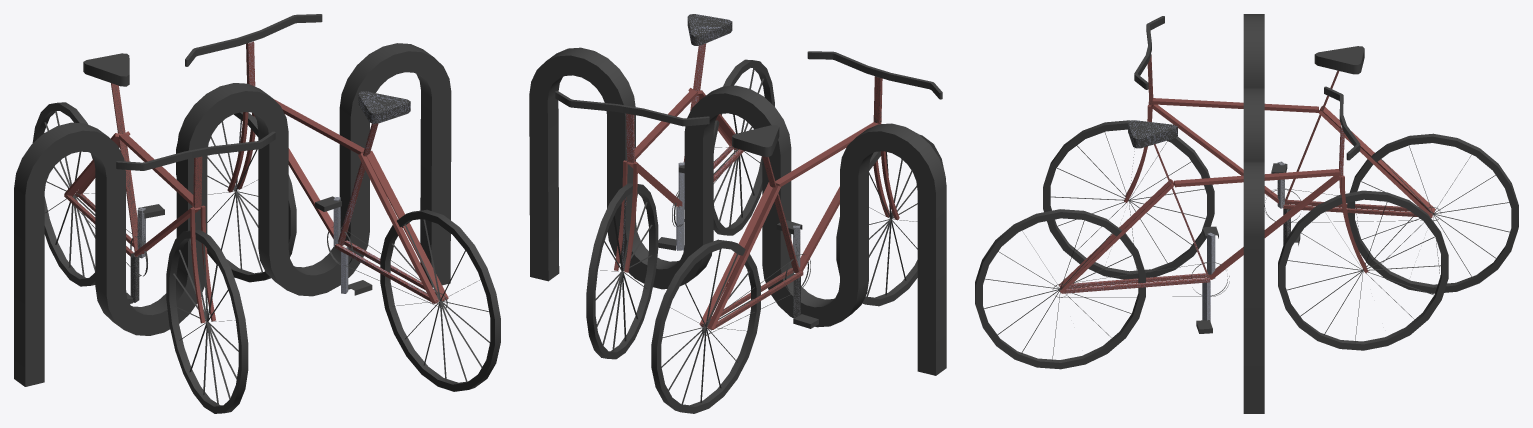
3 renders of one model, left to right at view 1: azimuth 30°, elevation 25°; view 2: azimuth 150°, elevation 25°; view 3: azimuth 270°, elevation 25°, orthographic. The views are drawn at different scales.
Parts seen in each view (by area): view 1: BikeRack (×2), Bike_Wheel (×11), Bicycle_Old (×8), Bike_Frame (×6), Bike_Handlebar_Half (×4), Bike_Fork_Half (×2); view 2: BikeRack, Bike_Wheel (×11), Bicycle_Old (×8), Bike_Frame (×6), Bike_Handlebar_Half (×4), Bike_Fork_Half (×3); view 3: Bike_Wheel (×12), BikeRack, Bike_Frame (×8), Bicycle_Old (×5).
Boxes of the visible parts, x1,y1,x2,y2 form: BikeRack (×2): [14, 43, 451, 386]; Bike_Wheel (×11): [32, 102, 500, 413]; Bicycle_Old (×8): [83, 53, 445, 303]; Bike_Frame (×6): [119, 99, 448, 303]; Bike_Handlebar_Half (×4): [116, 14, 322, 170]; Bike_Fork_Half (×2): [190, 205, 215, 323]; BikeRack: [529, 47, 946, 375]; Bike_Wheel (×11): [586, 59, 945, 413]; Bicycle_Old (×8): [626, 14, 882, 329]; Bike_Frame (×6): [628, 90, 879, 329]; Bike_Handlebar_Half (×4): [555, 51, 942, 126]; Bike_Fork_Half (×3): [614, 151, 899, 272]; Bike_Wheel (×12): [975, 120, 1518, 369]; BikeRack: [1243, 14, 1264, 413]; Bike_Frame (×8): [1059, 98, 1435, 293]; Bicycle_Old (×5): [1060, 46, 1432, 293].
Bounding box in the file's own units: 66.13 × 78.8 × 37.35.
